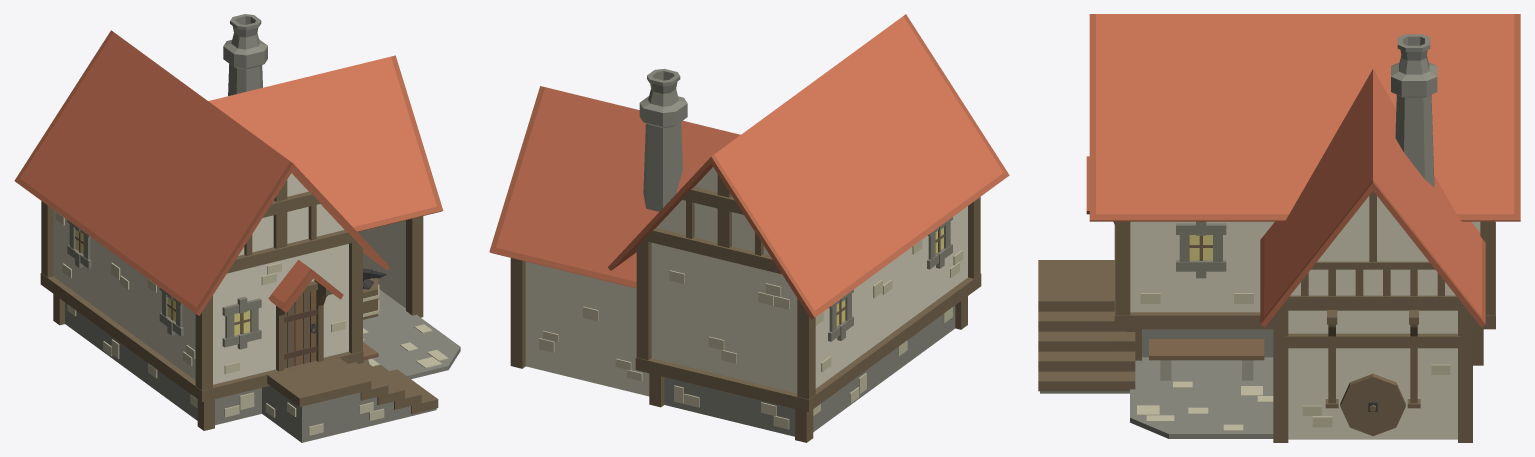
The model's file is Blacksmith.fbx.
3 renders of one model, left to right at view 1: azimuth 30°, elevation 25°; view 2: azimuth 150°, elevation 25°; view 3: azimuth 270°, elevation 25°, orthographic. The views are drawn at different scales.
Parts seen in each view (by area): view 1: Blacksmith; view 2: Blacksmith; view 3: Blacksmith.
Part boxes in pixels (x1,y1,x2,y2): Blacksmith: (14, 14, 460, 442); Blacksmith: (489, 14, 1009, 442); Blacksmith: (1038, 14, 1520, 442).
Bounding box in the file's own units: 225 × 188 × 247.
Materials: 1 (1 with a texture image).
